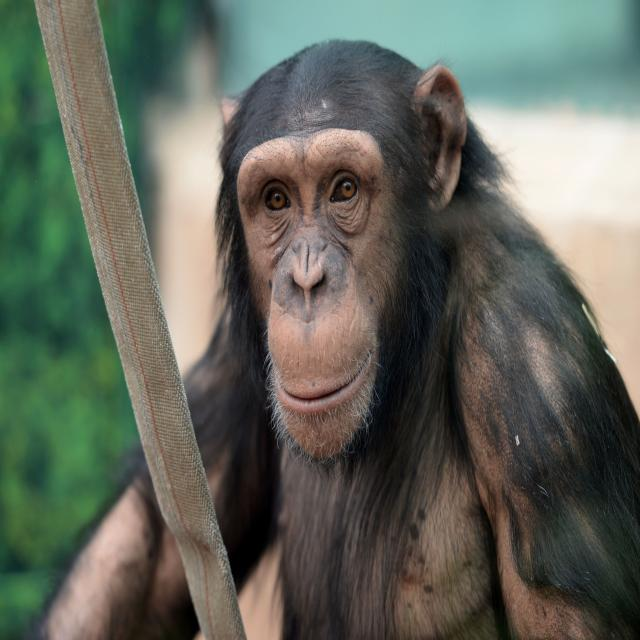chimpanzee: (185, 41, 640, 640), (32, 455, 199, 640)
